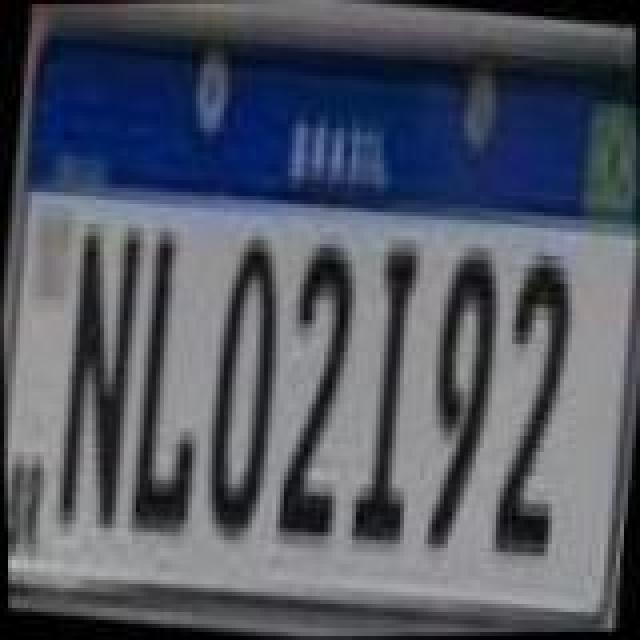2: (480, 250, 584, 566), (266, 236, 366, 544)
9: (410, 242, 510, 550)
I: (340, 238, 436, 554)
L: (122, 230, 222, 534)
N: (48, 224, 152, 536)
O: (192, 226, 296, 542)
